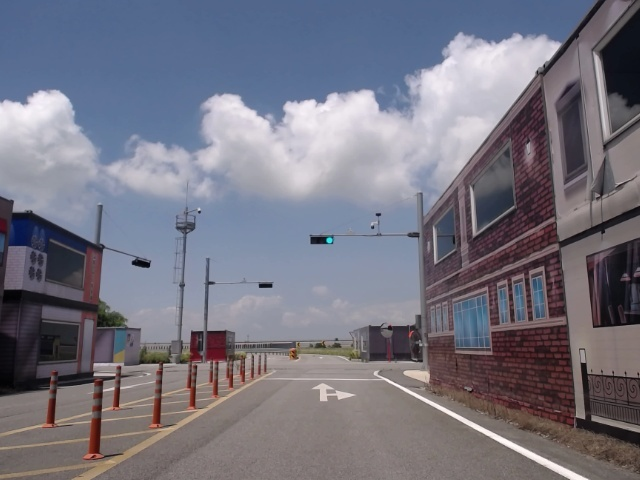green_3: (311, 239, 333, 243)
